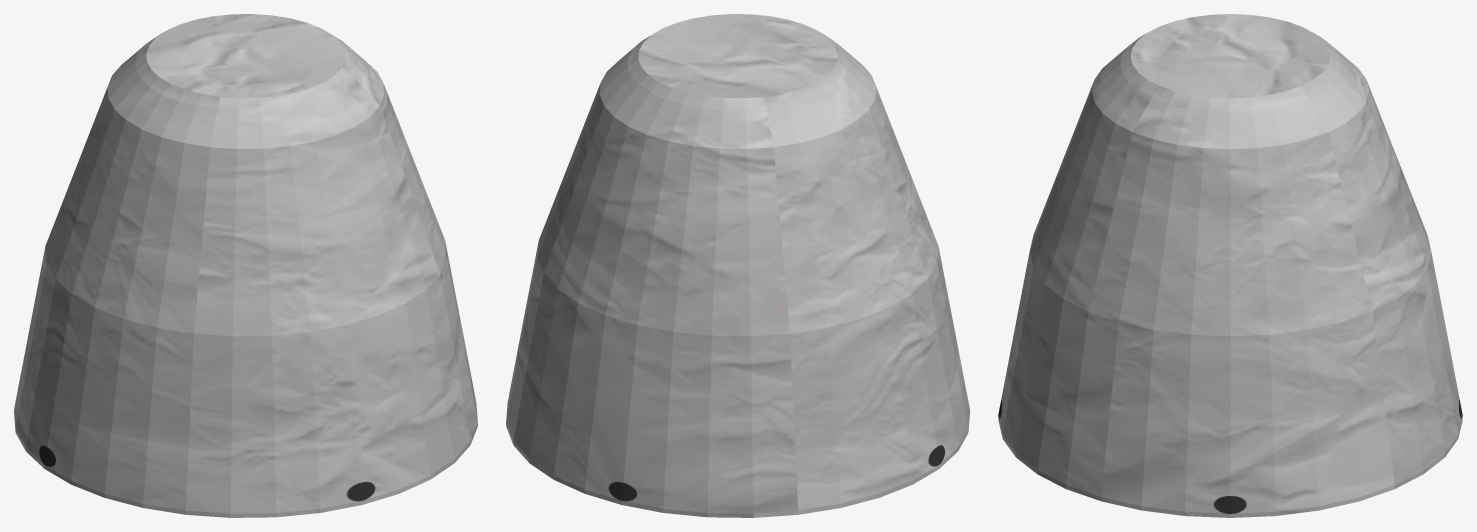
File: SJ10_entry.fbx
3 views of the same model, side by side, from view 1: azimuth 30°, elevation 25°; view 2: azimuth 150°, elevation 25°; view 3: azimuth 270°, elevation 25° (orthographic).
Visible parts, largest first — view 1: 柱体.003; view 2: 柱体.003; view 3: 柱体.003.
Part boxes in pixels (box(x1,y1,x2,y2)): 柱体.003: box(14, 14, 477, 517); 柱体.003: box(506, 14, 969, 517); 柱体.003: box(998, 14, 1462, 517).
Size of the model in its own units: 1.75 by 1.51 by 1.75.
1 material, 1 textured.
